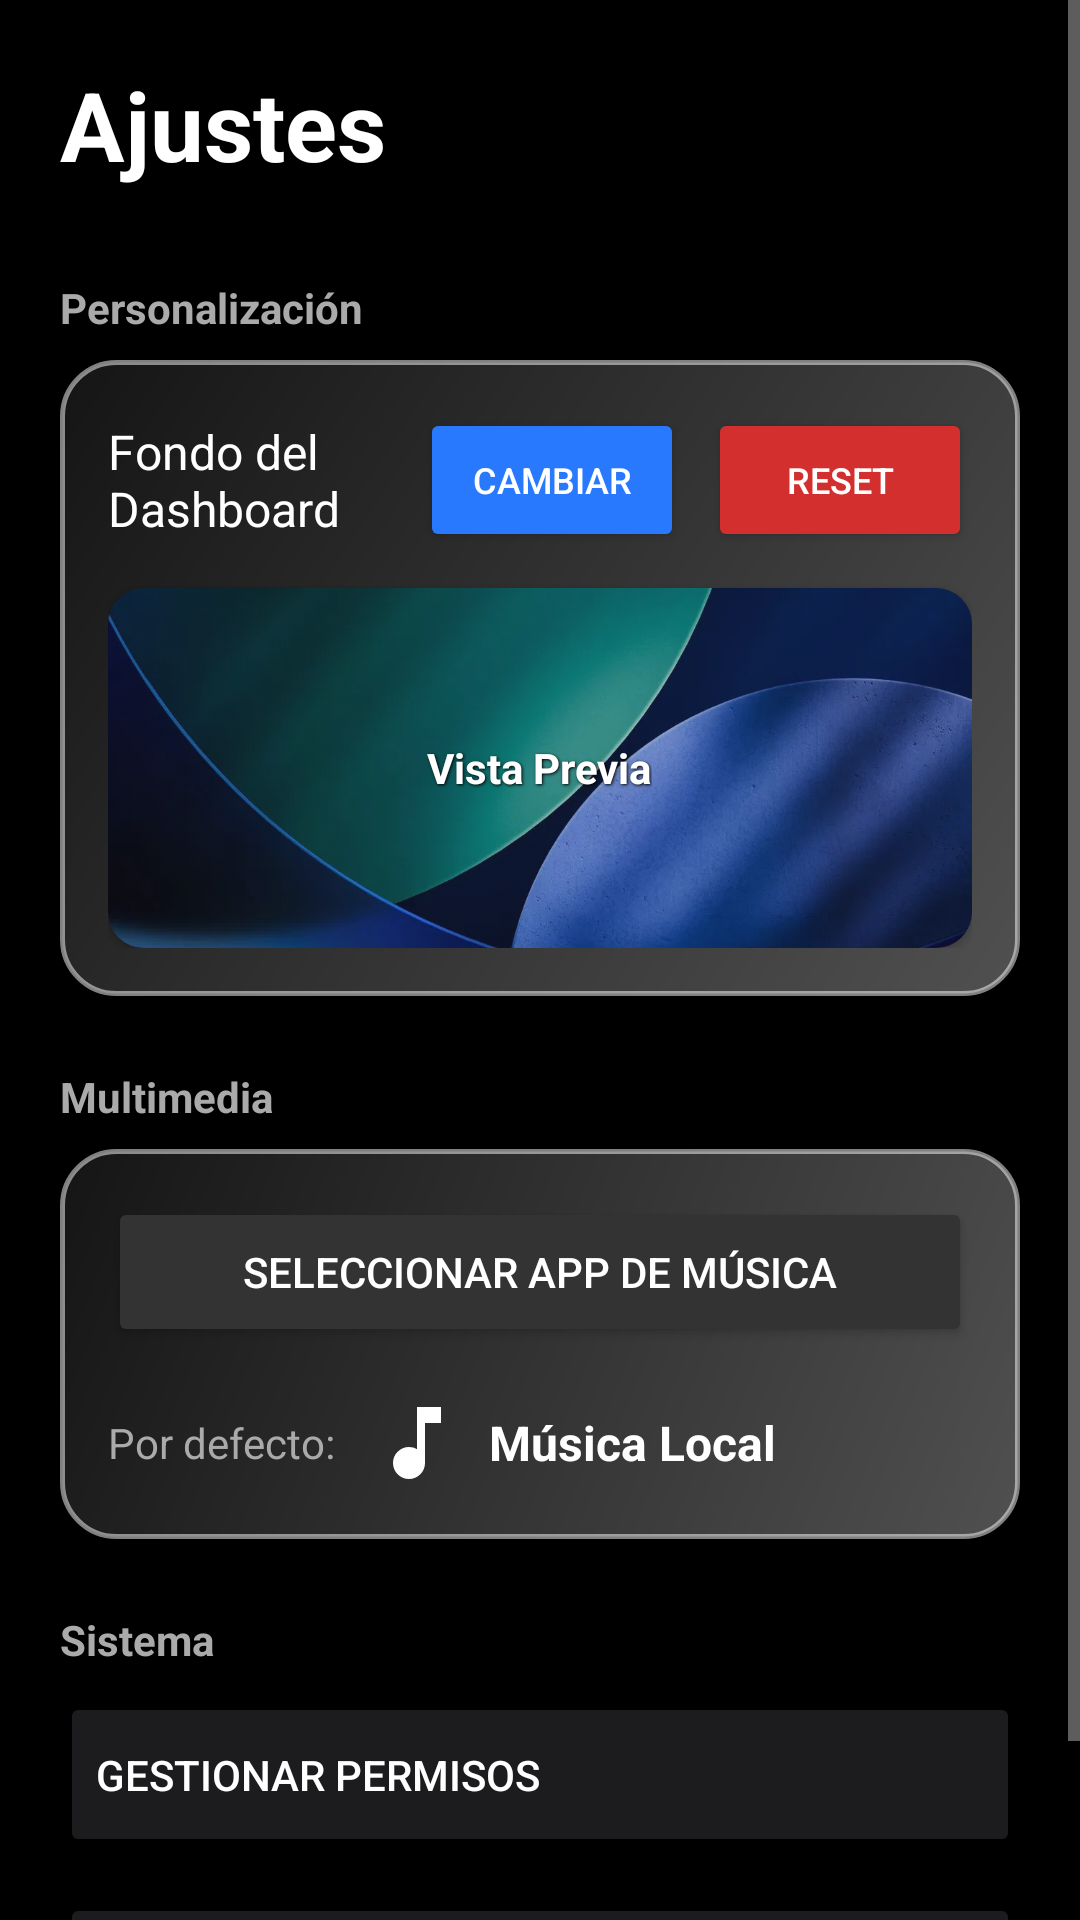

Icons on this 1080 x 1920 Android screen, each with its box as (x1=x1, y1=y1, x2=x2, y2=y2):
music: (x1=393, y1=1407, x2=441, y2=1479)
